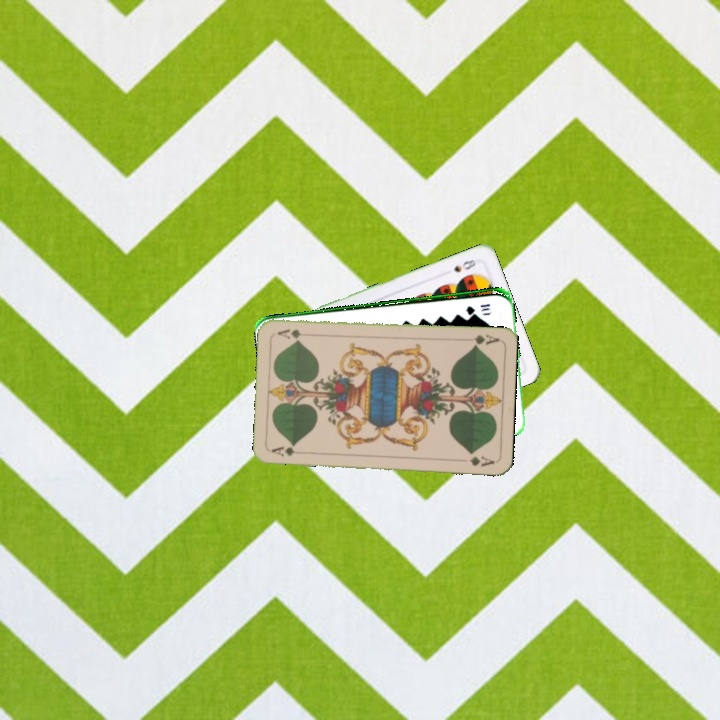G10: (461, 300, 493, 315)
GA: (267, 443, 308, 459), (470, 330, 501, 349)
S8: (449, 255, 478, 275)
